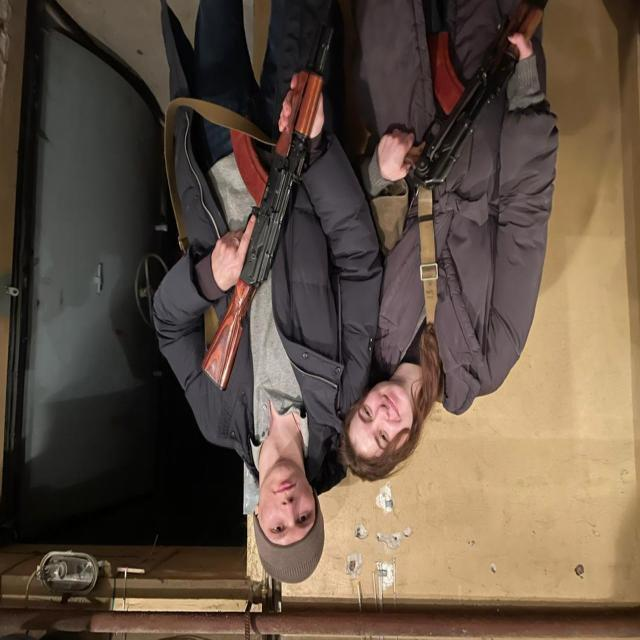weapon: (198, 18, 338, 390), (400, 0, 545, 218)
